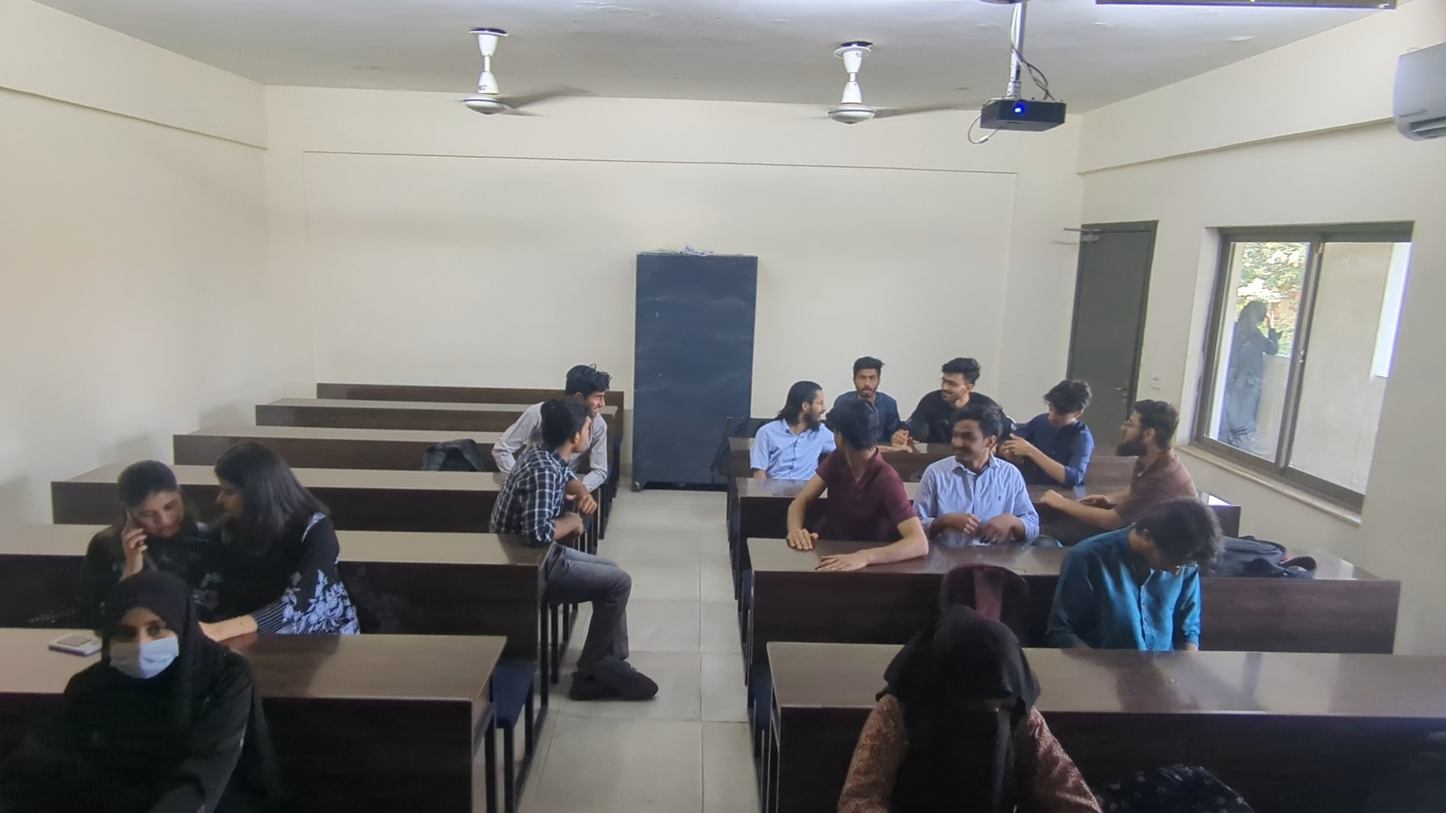look_forward: (11, 571, 280, 812), (842, 354, 885, 399)
turn_head: (204, 443, 354, 634), (777, 398, 926, 559), (904, 415, 1045, 551), (1053, 401, 1211, 510), (492, 398, 598, 542), (752, 377, 823, 472), (909, 357, 1005, 417), (569, 360, 613, 471)
using_device: (810, 604, 1103, 813), (1045, 491, 1210, 651), (74, 457, 198, 558), (1001, 376, 1092, 487)
